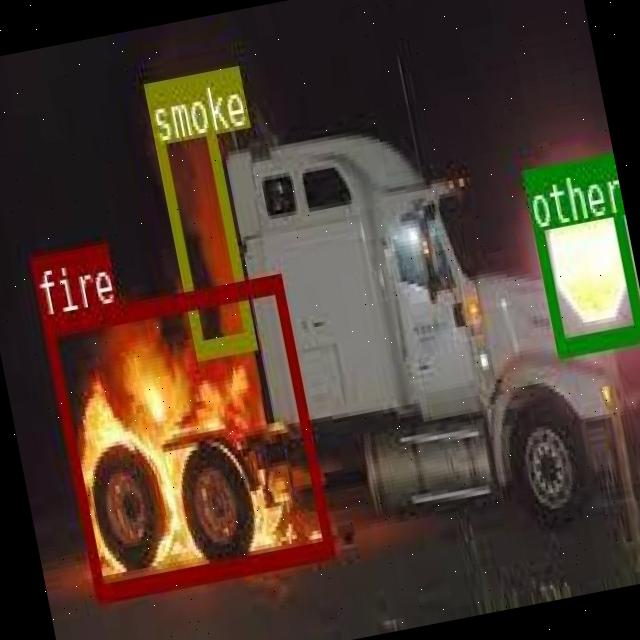fire: (43, 273, 334, 601)
smoke: (143, 71, 254, 358)
